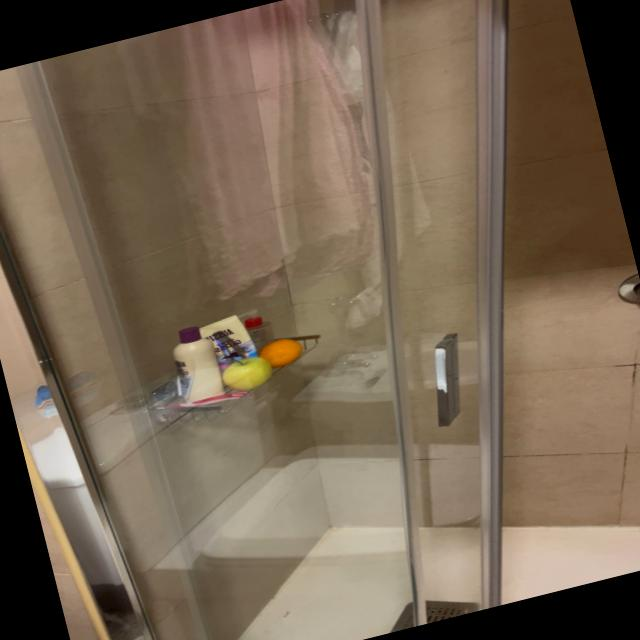apple: (223, 356, 272, 390)
orange: (260, 338, 302, 367)
